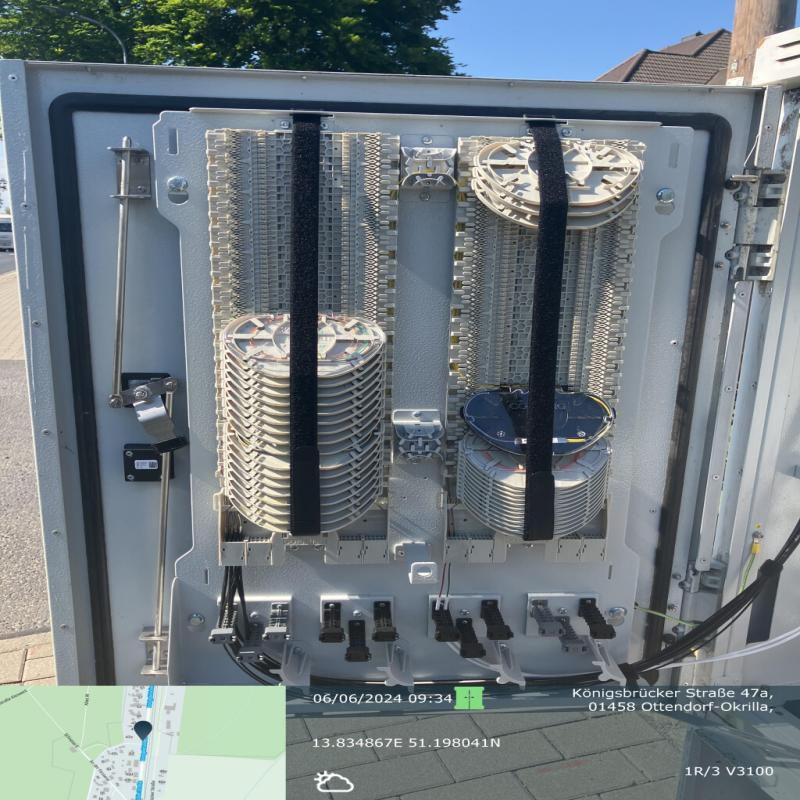NT-Gehause: (6, 35, 800, 687)
Spleiskassetten: (209, 129, 400, 565), (464, 135, 646, 553)
